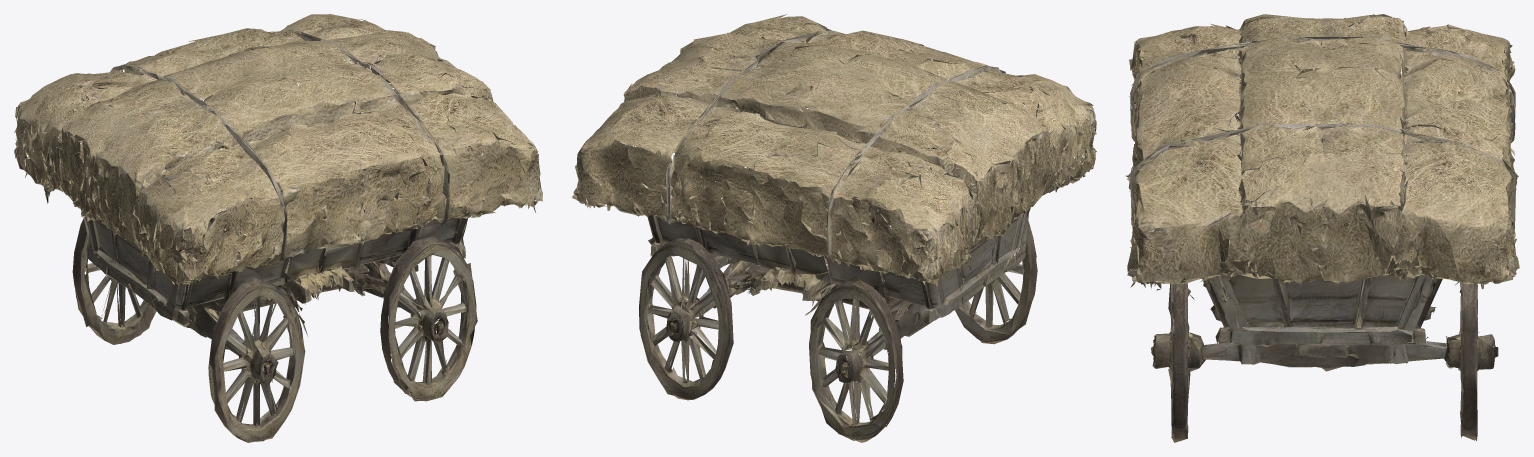
The model's file is hay-cart.glb.
The picture shows the model from 3 angles, left to right: view 1: azimuth 30°, elevation 25°; view 2: azimuth 150°, elevation 25°; view 3: azimuth 270°, elevation 25°; orthographic projection. The views are drawn at different scales.
Parts seen in each view (by area): view 1: hay-cart; view 2: hay-cart; view 3: hay-cart.
Part boxes in pixels (x1,y1,x2,y2): hay-cart: (14,14,542,442); hay-cart: (571,14,1096,442); hay-cart: (1126,14,1519,442).
Bounding box in the file's own units: 2.81 × 2.2 × 2.41.
Materials: 1 (1 with a texture image).
